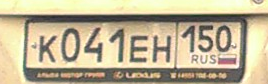character: (83, 26, 105, 65), (37, 33, 59, 65), (108, 26, 127, 63), (60, 27, 80, 62), (151, 35, 172, 63), (216, 24, 234, 53), (198, 23, 215, 53), (130, 34, 148, 62), (181, 24, 197, 54)
